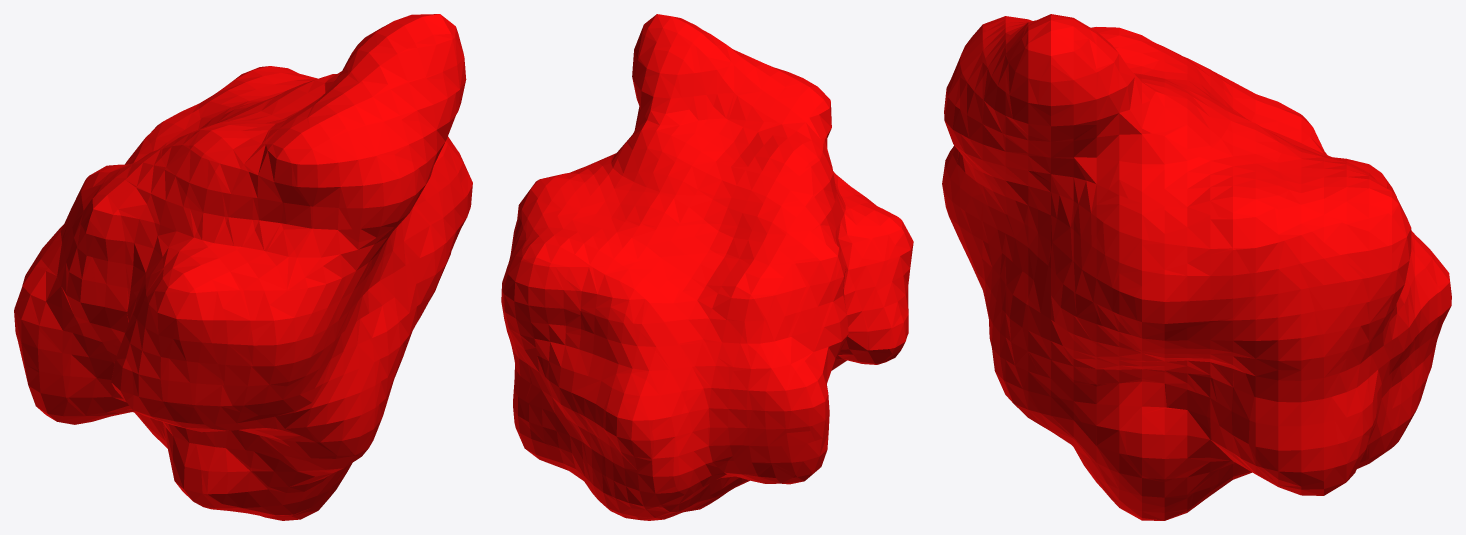
The model's file is rfbC_coarse.dae.
3 views of the same model, side by side, from view 1: azimuth 30°, elevation 25°; view 2: azimuth 150°, elevation 25°; view 3: azimuth 270°, elevation 25° (orthographic). The views are drawn at different scales.
Parts seen in each view (by area): view 1: rfbC; view 2: rfbC; view 3: rfbC.
Part boxes in pixels (x1,y1,x2,y2): rfbC: (14,14,472,520); rfbC: (501,14,913,520); rfbC: (942,14,1451,520).
Bounding box in the file's own units: 42.32 × 52.98 × 45.57.
